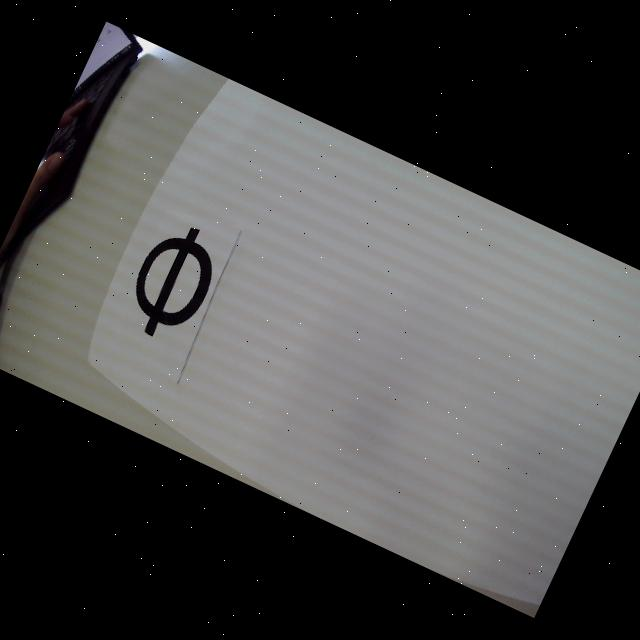PHI: (116, 214, 230, 351)
